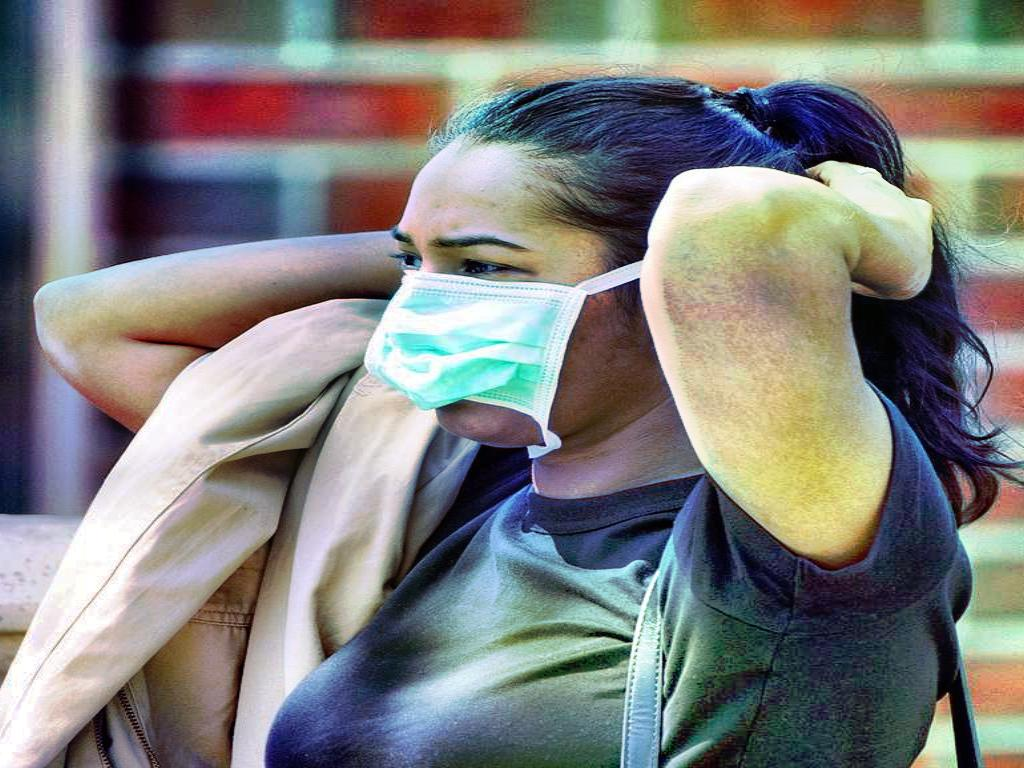mask_weared_incorrect: (357, 75, 803, 465)
